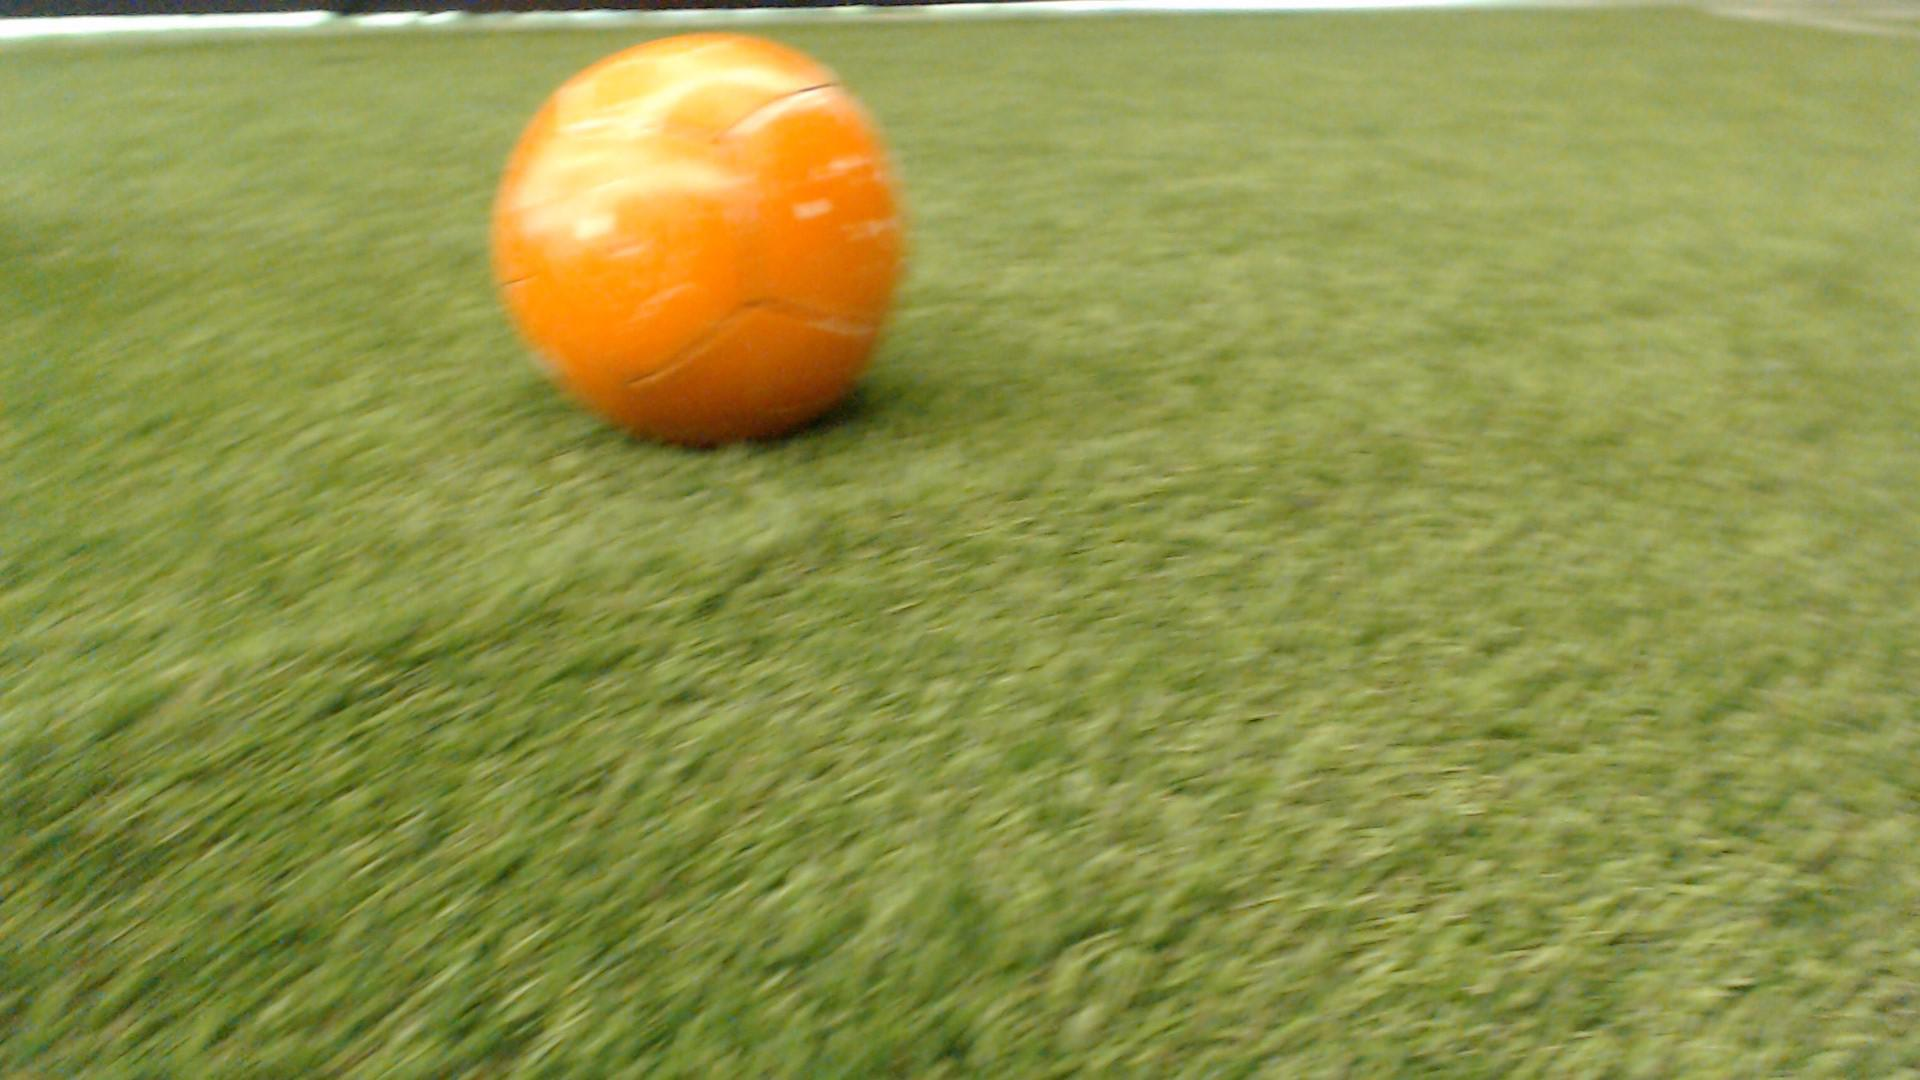bola: (475, 33, 959, 471)
